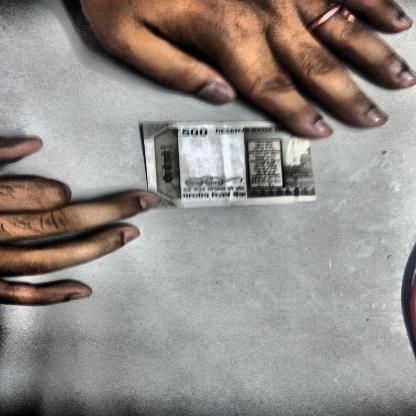Rs500: (170, 126, 215, 138)
